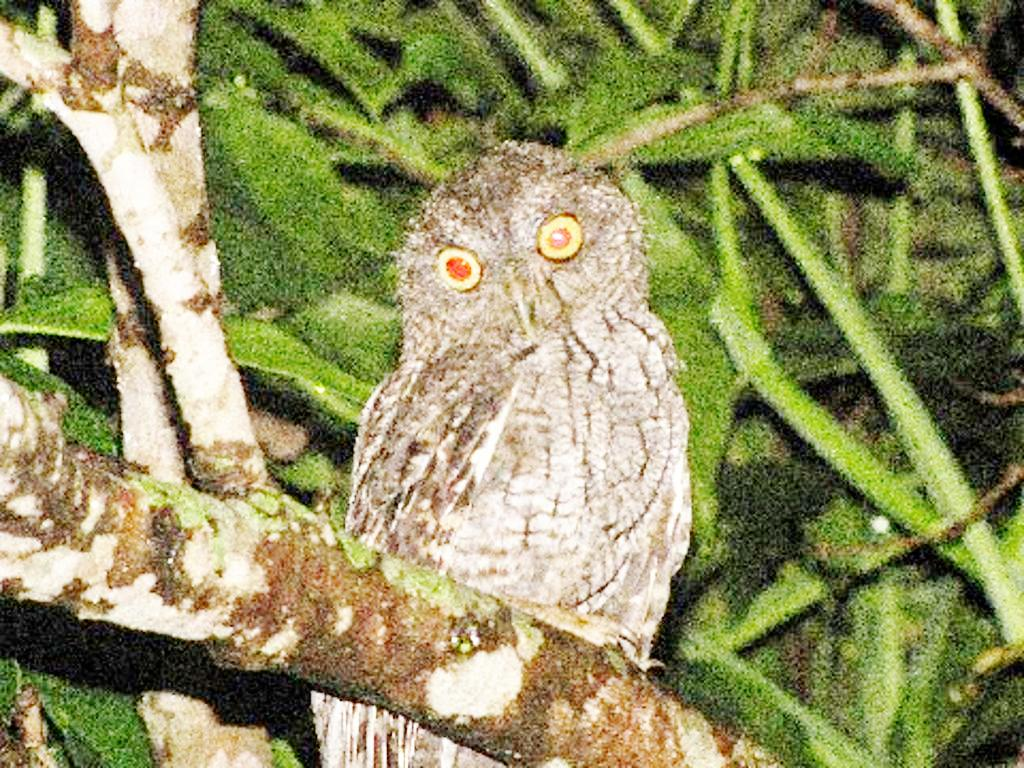Owl: (309, 145, 702, 670)
